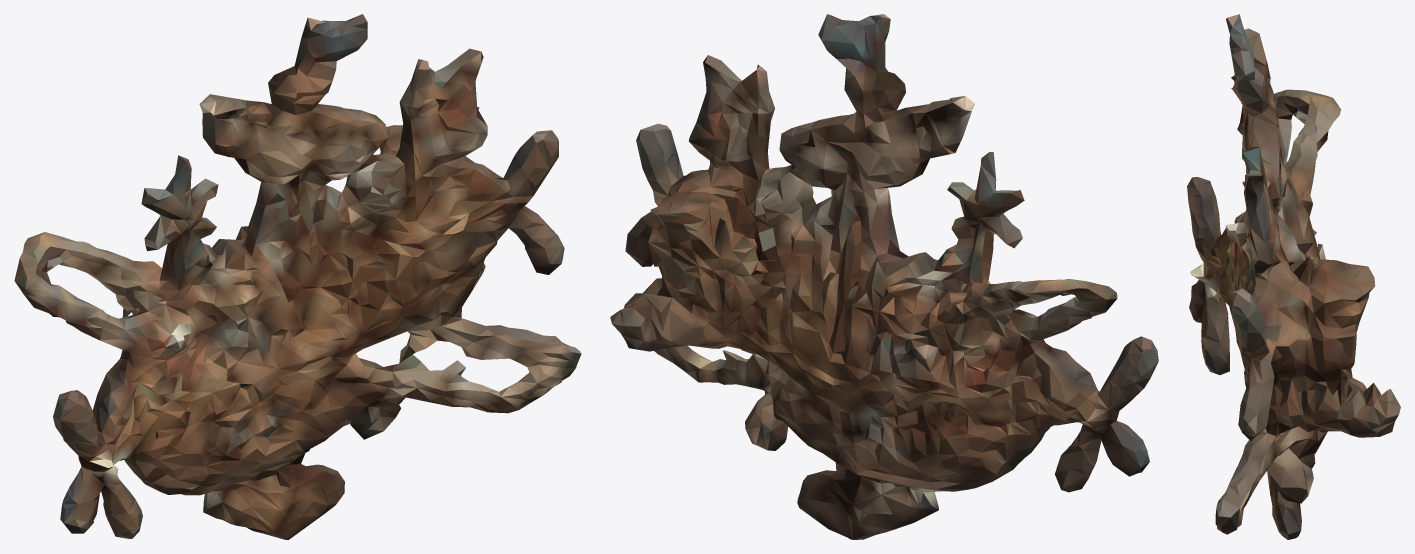
The model's file is daycare_shiptoy.glb.
3 renders of one model, left to right at view 1: azimuth 30°, elevation 25°; view 2: azimuth 150°, elevation 25°; view 3: azimuth 270°, elevation 25°, orthographic. The views are drawn at different scales.
Parts seen in each view (by area): view 1: geometry_0; view 2: geometry_0; view 3: geometry_0.
Boxes of the visible parts, x1,y1,x2,y2 form: geometry_0: [14, 14, 581, 539]; geometry_0: [610, 14, 1158, 539]; geometry_0: [1187, 14, 1400, 539].
Size of the model in its own units: 0.313 by 0.3 by 0.1117.
1 material, 1 textured.
